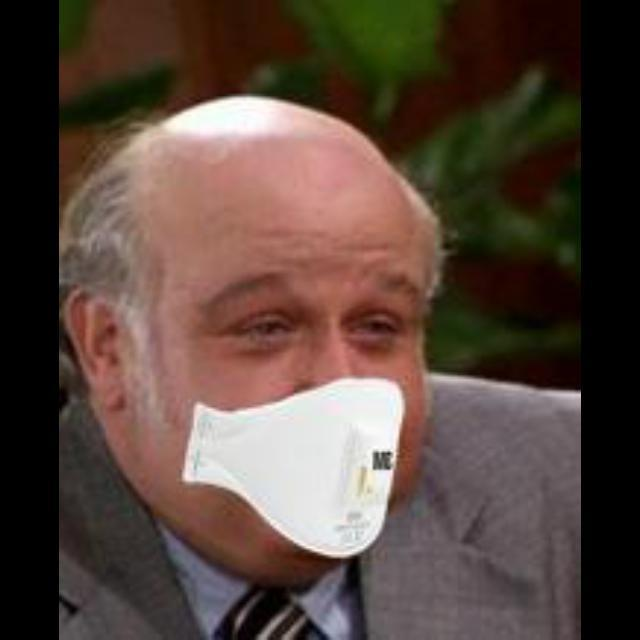suspicion: (66, 21, 478, 602)
